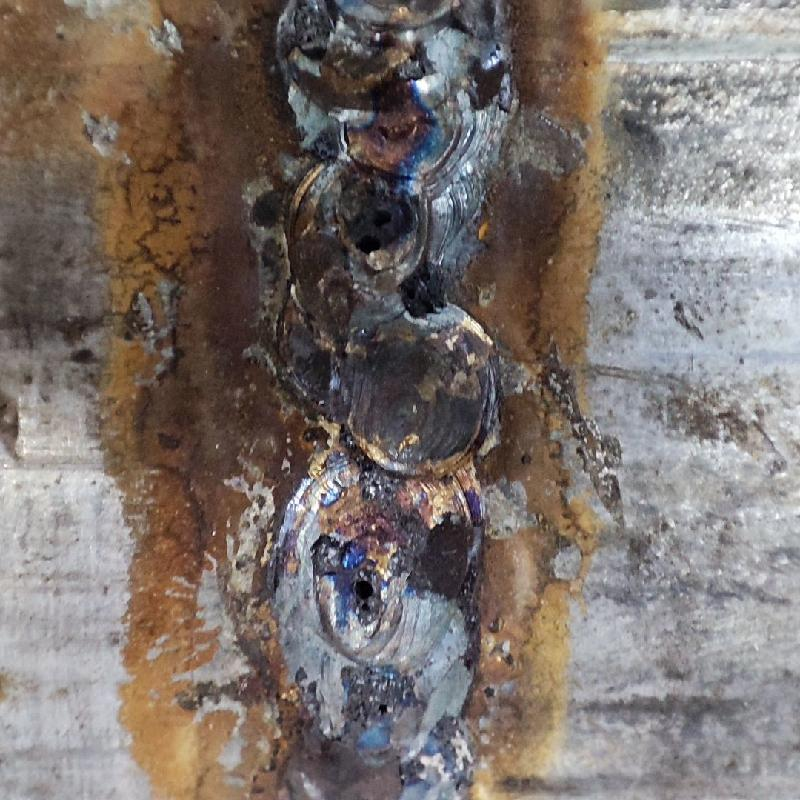Surface_pores: (344, 190, 404, 266), (333, 563, 390, 620)
